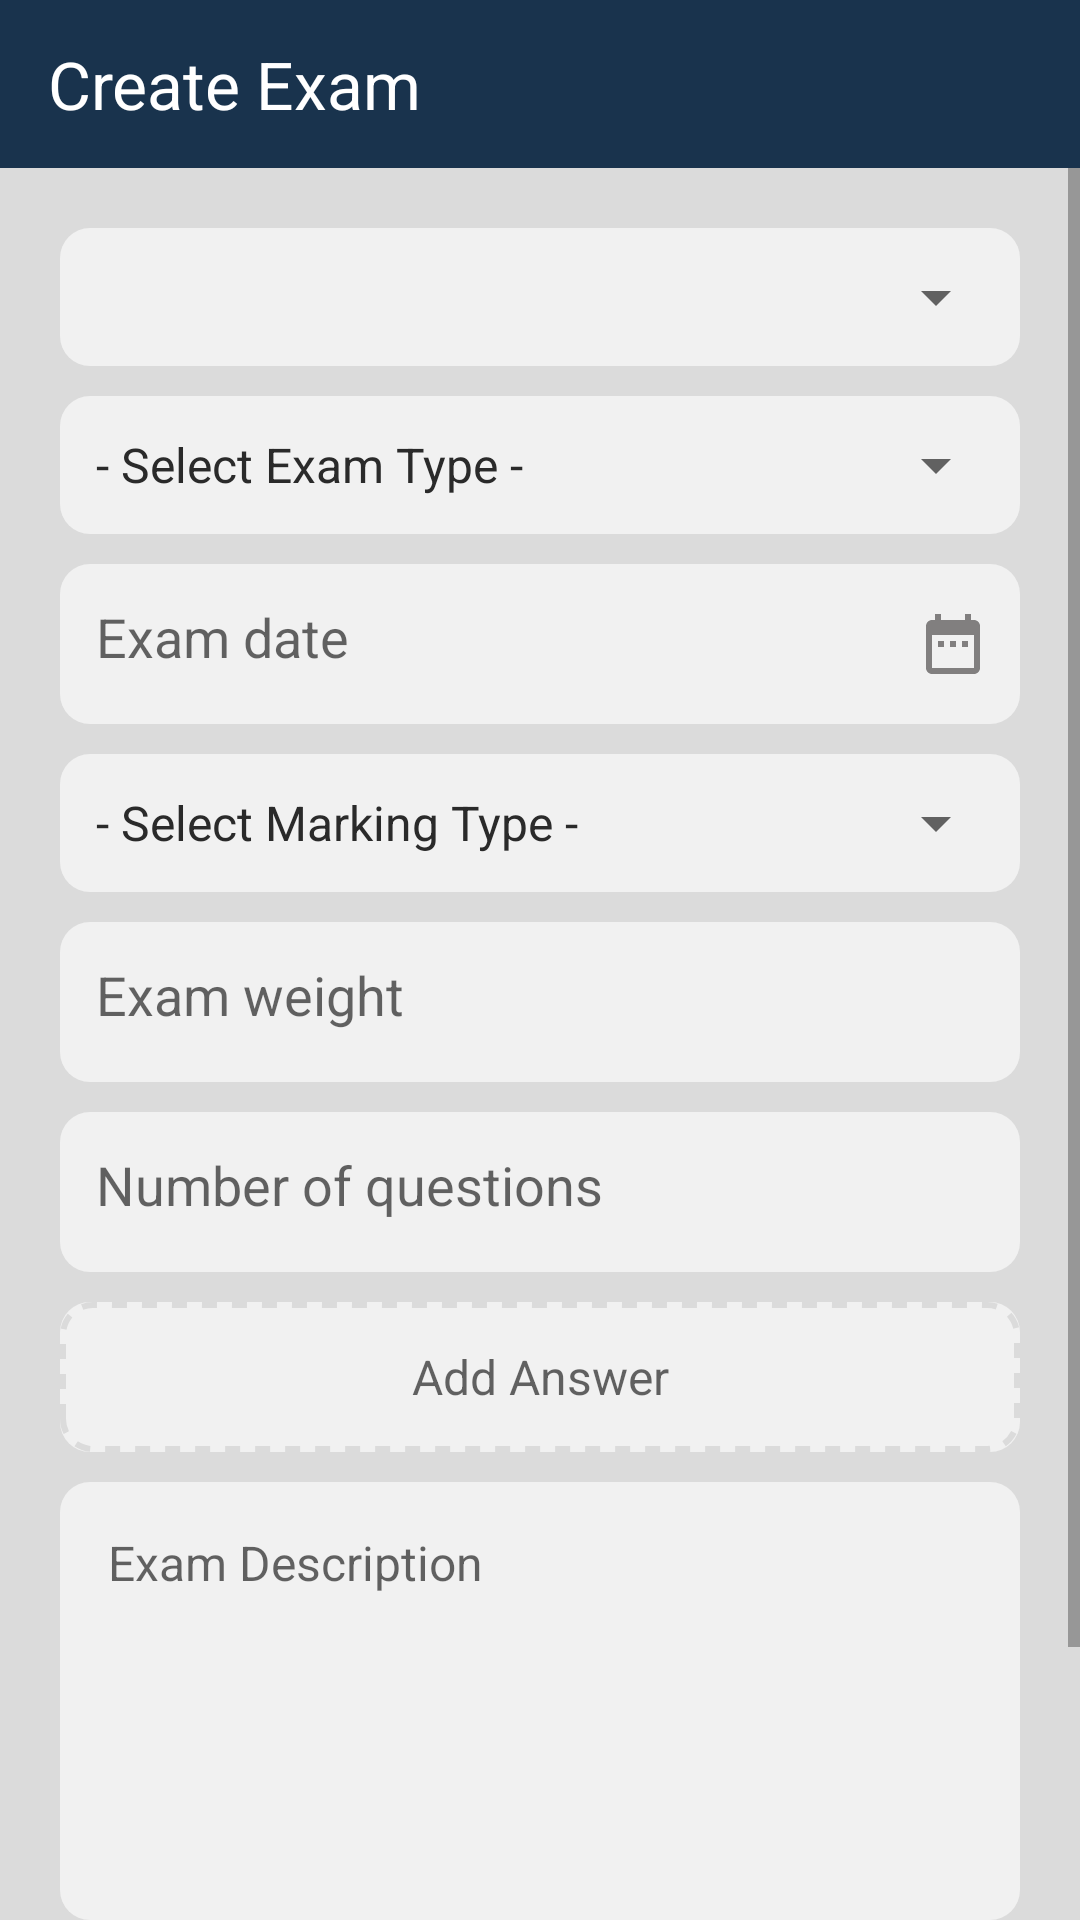

Icons on this 1080x1920 Android screen, each with its box as region(x1, y1, x2, y2):
calendar: region(926, 614, 980, 674)
